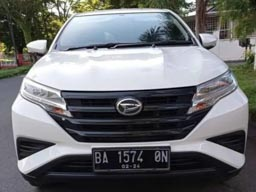plat: (94, 150, 169, 163)
